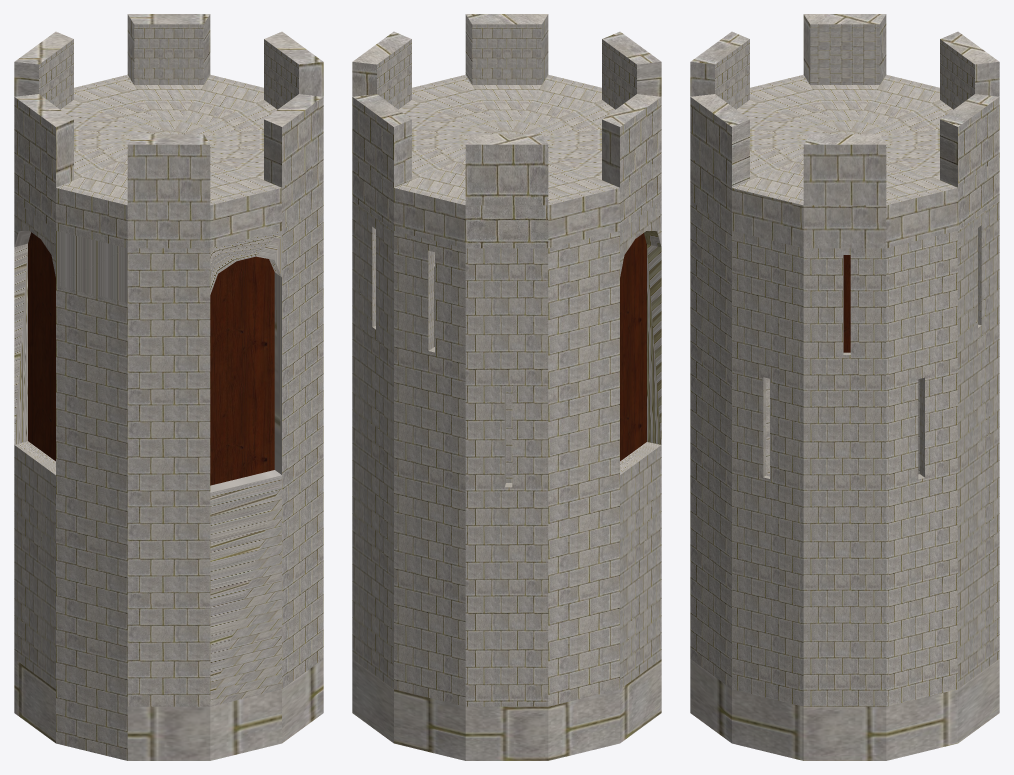
The model's file is Wall_Stone_Large_Tower.fbx.
3 renders of one model, left to right at view 1: azimuth 30°, elevation 25°; view 2: azimuth 150°, elevation 25°; view 3: azimuth 270°, elevation 25°, orthographic.
Visible parts, largest first — view 1: pCylinder2; view 2: pCylinder2; view 3: pCylinder2.
Part boxes in pixels (<box>): pCylinder2: <box>14,14,323,760</box>; pCylinder2: <box>352,14,661,760</box>; pCylinder2: <box>690,14,999,760</box>.
Size of the model in its own units: 7.33 by 16.13 by 7.33.
Materials: 2 (2 with a texture image).
